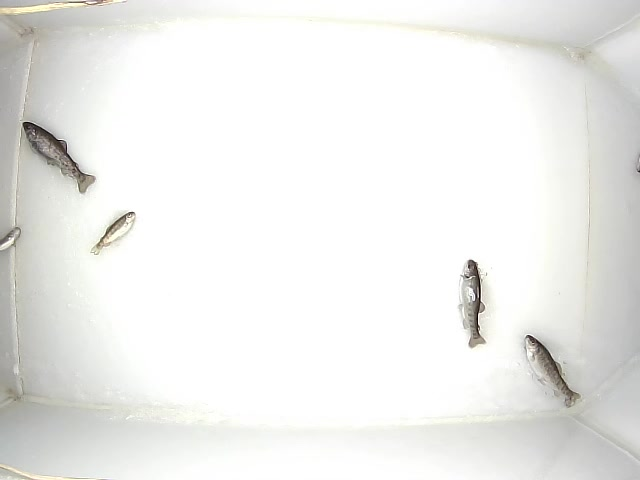fish: (22, 121, 96, 193), (524, 335, 581, 408), (457, 259, 486, 348), (90, 211, 136, 255), (1, 227, 21, 252)
